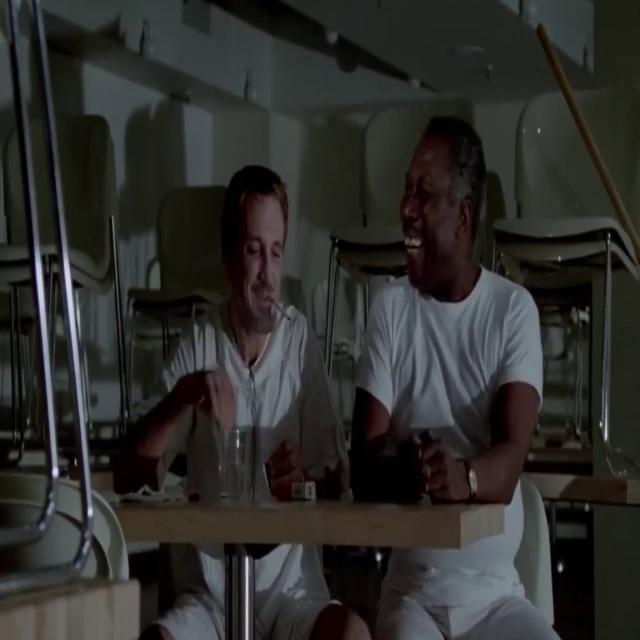Smooking: (268, 294, 294, 324)
